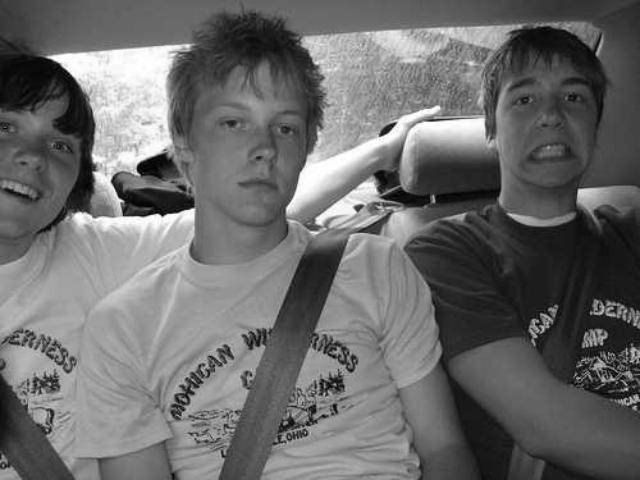SafeDriving: (35, 131, 81, 159), (264, 112, 306, 142), (210, 106, 255, 134), (556, 82, 592, 112), (506, 84, 543, 112), (0, 112, 25, 142)
Seatbelt: (215, 198, 398, 480), (503, 258, 602, 480), (0, 370, 82, 480)
